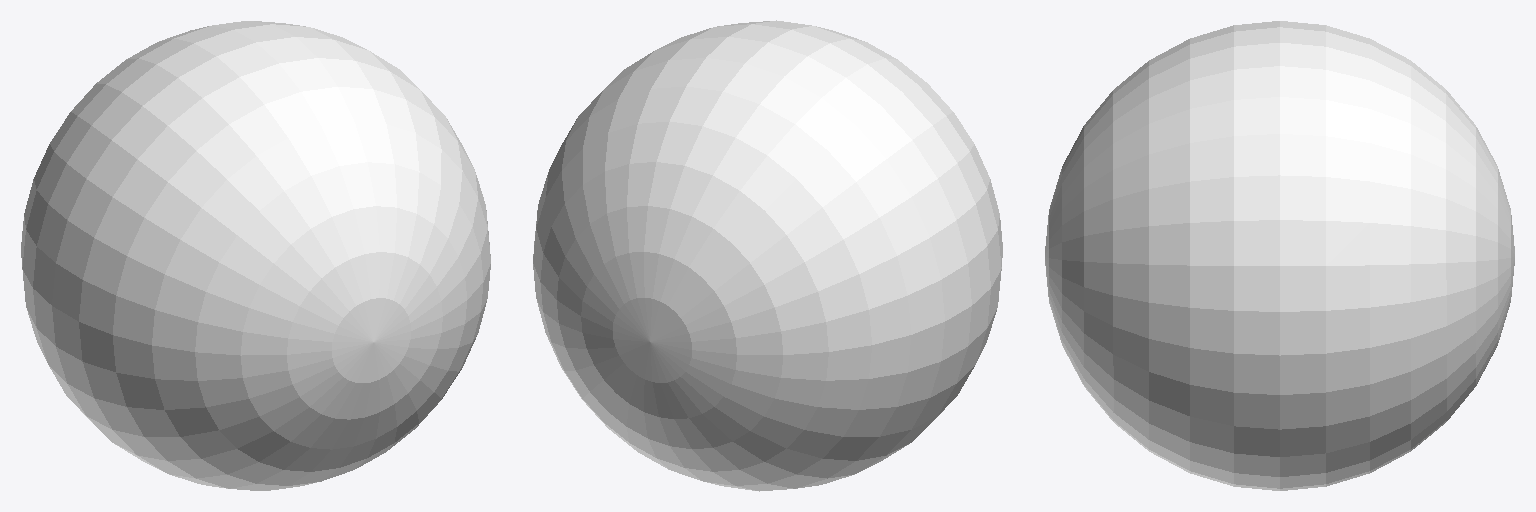
robot.urdf — tb3_burger:
<?xml version="1.0" ?>
<!-- =================================================================================== -->
<!-- |    This document was autogenerated by xacro from src/bots/xacro/tb3_burger.xacro | -->
<!-- |    EDITING THIS FILE BY HAND IS NOT RECOMMENDED                                 | -->
<!-- =================================================================================== -->
<robot name="tb3_burger">
  <!-- ****************************************************** Turtlebot 3 Burger Robot *************************************************  -->
  <!-- [author]                                                                                                                  -->
  <!-- March 2022                                                                                                                         -->
  <!-- *********************************************************************************************************************************  -->
  <!-- ****************************************************** Includes *****************************************************************  -->
  <material name="red">
    <color rgba="1.0 0.0 0.0 1.0"/>
  </material>
  <material name="green">
    <color rgba="0.0 1.0 0.0 1.0"/>
  </material>
  <material name="blue">
    <color rgba="0.0 0.0 1.0 1.0"/>
  </material>
  <material name="black">
    <color rgba="0.3 0.3 0.3 1.0"/>
  </material>
  <material name="white">
    <color rgba="1.0 1.0 1.0 1.0"/>
  </material>
  <material name="grey">
    <color rgba="0.2 0.2 0.2 1.0"/>
  </material>
  <material name="orange">
    <color rgba="1.0 0.4235294117647059 0.0392156862745098 1.0"/>
  </material>
  <material name="brown">
    <color rgba="0.8705882352941177 0.8117647058823529 0.7647058823529411 1.0"/>
  </material>
  <material name="yellow">
    <color rgba="1.0 1.0 0.0 1.0"/>
  </material>
  <!-- ****************************************************** Turtlebot 3 Burger Robot *************************************************  -->
  <!-- [author]                                                                                                                  -->
  <!-- March 2022                                                                                                                         -->
  <!-- *********************************************************************************************************************************  -->
  <!-- ****************************************************** Base Link ****************************************************************  -->
  <gazebo reference="base_link">
    <material>Gazebo/Blue</material>
  </gazebo>
  <!-- ****************************************************** Wheel Left Link **********************************************************  -->
  <gazebo reference="wheel_left_link">
    <material>Gazebo/FlatBlack</material>
  </gazebo>
  <!-- ****************************************************** Wheel Right Link *********************************************************  -->
  <gazebo reference="wheel_right_link">
    <material>Gazebo/FlatBlack</material>
  </gazebo>
  <!-- ****************************************************** Caster Back Link *********************************************************  -->
  <gazebo reference="caster_back_link">
    <material>Gazebo/White</material>
  </gazebo>
  <!-- ****************************************************** Laser Scan Link **********************************************************  -->
  <gazebo reference="base_scan">
    <material>Gazebo/Green</material>
  </gazebo>
  <!-- *********************************************************************************************************************************  -->
  <!-- Gazebo                                     -->
  <!-- ****************************************************** Base Footprint Link ******************************************************  -->
  <link name="base_footprint"/>
  <!-- ****************************************************** Base Joint ***************************************************************  -->
  <joint name="base_joint" type="fixed">
    <parent link="base_footprint"/>
    <child link="base_link"/>
    <origin rpy="0 0 0" xyz="0.0 0.0 0.010"/>
  </joint>
  <!-- ****************************************************** Base Link ****************************************************************  -->
  <link name="base_link">
    <visual>
      <origin rpy="0 0 0" xyz="-0.032 0 0.0"/>
      <geometry>
        <mesh filename="package://bots/meshes/tb3/burger_base.stl" scale="0.001 0.001 0.001"/>
      </geometry>
      <material name="blue"/>
    </visual>
    <collision>
      <origin rpy="0 0 0" xyz="-0.032 0 0.070"/>
      <geometry>
        <box size="0.140 0.140 0.143"/>
      </geometry>
    </collision>
    <inertial>
      <origin rpy="0 0 0" xyz="0 0 0"/>
      <mass value="8.2573504e-01"/>
      <inertia ixx="2.2124416e-03" ixy="-1.2294101e-05" ixz="3.4938785e-05" iyy="2.1193702e-03" iyz="-5.0120904e-06" izz="2.0064271e-03"/>
    </inertial>
  </link>
  <!-- ****************************************************** Wheel Left Joint *********************************************************  -->
  <joint name="wheel_left_joint" type="continuous">
    <parent link="base_link"/>
    <child link="wheel_left_link"/>
    <origin rpy="-1.57 0 0" xyz="0.0 0.08 0.023"/>
    <axis xyz="0 0 1"/>
  </joint>
  <!-- ****************************************************** Wheel Left Link **********************************************************  -->
  <link name="wheel_left_link">
    <visual>
      <origin rpy="1.57 0 0" xyz="0 0 0"/>
      <geometry>
        <mesh filename="package://bots/meshes/tb3/left_tire.stl" scale="0.001 0.001 0.001"/>
      </geometry>
      <material name="black"/>
    </visual>
    <collision>
      <origin rpy="0 0 0" xyz="0 0 0"/>
      <geometry>
        <cylinder length="0.018" radius="0.033"/>
      </geometry>
    </collision>
    <inertial>
      <origin xyz="0 0 0"/>
      <mass value="2.8498940e-02"/>
      <inertia ixx="1.1175580e-05" ixy="-4.2369783e-11" ixz="-5.9381719e-09" iyy="1.1192413e-05" iyz="-1.4400107e-11" izz="2.0712558e-05"/>
    </inertial>
  </link>
  <!-- ****************************************************** Wheel Right Joint ********************************************************  -->
  <joint name="wheel_right_joint" type="continuous">
    <parent link="base_link"/>
    <child link="wheel_right_link"/>
    <origin rpy="-1.57 0 0" xyz="0.0 -0.080 0.023"/>
    <axis xyz="0 0 1"/>
  </joint>
  <!-- ****************************************************** Wheel Right Link *********************************************************  -->
  <link name="wheel_right_link">
    <visual>
      <origin rpy="1.57 0 0" xyz="0 0 0"/>
      <geometry>
        <mesh filename="package://bots/meshes/tb3/right_tire.stl" scale="0.001 0.001 0.001"/>
      </geometry>
      <material name="black"/>
    </visual>
    <collision>
      <origin rpy="0 0 0" xyz="0 0 0"/>
      <geometry>
        <cylinder length="0.018" radius="0.033"/>
      </geometry>
    </collision>
    <inertial>
      <origin xyz="0 0 0"/>
      <mass value="2.8498940e-02"/>
      <inertia ixx="1.1175580e-05" ixy="-4.2369783e-11" ixz="-5.9381719e-09" iyy="1.1192413e-05" iyz="-1.4400107e-11" izz="2.0712558e-05"/>
    </inertial>
  </link>
  <!-- ****************************************************** Caster Back Joint ********************************************************  -->
  <joint name="caster_back_joint" type="fixed">
    <parent link="base_link"/>
    <child link="caster_back_link"/>
    <origin rpy="-1.57 0 0" xyz="-0.081 0 -0.004"/>
  </joint>
  <!-- ****************************************************** Caster Back Link *********************************************************  -->
  <link name="caster_back_link">
    <visual>
      <geometry>
        <sphere radius="0.007"/>
      </geometry>
      <material name="white"/>
    </visual>
    <collision>
      <origin rpy="0 0 0" xyz="0 0.001 0"/>
      <geometry>
        <box size="0.030 0.009 0.020"/>
      </geometry>
    </collision>
    <inertial>
      <origin xyz="0 0 0"/>
      <mass value="0.005"/>
      <inertia ixx="0.001" ixy="0.0" ixz="0.0" iyy="0.001" iyz="0.0" izz="0.001"/>
    </inertial>
  </link>
  <!-- ****************************************************** IMU Joint ****************************************************************  -->
  <joint name="imu_joint" type="fixed">
    <parent link="base_link"/>
    <child link="imu_link"/>
    <origin rpy="0 0 0" xyz="-0.032 0 0.068"/>
  </joint>
  <!-- ****************************************************** IMU Link *****************************************************************  -->
  <link name="imu_link"/>
  <!-- ****************************************************** Laser Scan Joint *********************************************************  -->
  <joint name="scan_joint" type="fixed">
    <parent link="base_link"/>
    <child link="base_scan"/>
    <origin rpy="0 0 0" xyz="-0.032 0 0.172"/>
  </joint>
  <!-- ****************************************************** Laser Scan Link **********************************************************  -->
  <link name="base_scan">
    <visual>
      <origin rpy="0 0 0" xyz="0 0 0.0"/>
      <geometry>
        <mesh filename="package://bots/meshes/tb3/lds.stl" scale="0.001 0.001 0.001"/>
      </geometry>
      <material name="green"/>
    </visual>
    <collision>
      <origin rpy="0 0 0" xyz="0.015 0 -0.0065"/>
      <geometry>
        <cylinder length="0.0315" radius="0.055"/>
      </geometry>
    </collision>
    <inertial>
      <mass value="0.114"/>
      <origin xyz="0 0 0"/>
      <inertia ixx="0.001" ixy="0.0" ixz="0.0" iyy="0.001" iyz="0.0" izz="0.001"/>
    </inertial>
  </link>
  <!-- *********************************************************************************************************************************  -->
</robot>

--- Facts derived from the render (not from the file) ---
Views: 3 orthographic renders of the robot side by side, from view 1: azimuth 30°, elevation 25°; view 2: azimuth 150°, elevation 25°; view 3: azimuth 270°, elevation 25°.
Robot: tb3_burger — 7 links, 6 joints (2 continuous, 4 fixed); root link base_footprint; default pose: all joints at 0.
Links seen in each view (by area): view 1: caster_back_link; view 2: caster_back_link; view 3: caster_back_link.
Boxes of the visible links, box(x1,y1,x2,y2) form: caster_back_link: box(21, 21, 490, 490); caster_back_link: box(533, 20, 1002, 491); caster_back_link: box(1045, 21, 1514, 490).
Bounding box of the posed robot: 0.014 × 0.014 × 0.014 m (x, y, z).
Meshes: 4 distinct files referenced, 0 mesh visuals loaded (none loaded); not drawn: 4 (reference not matched to a file when rendering).